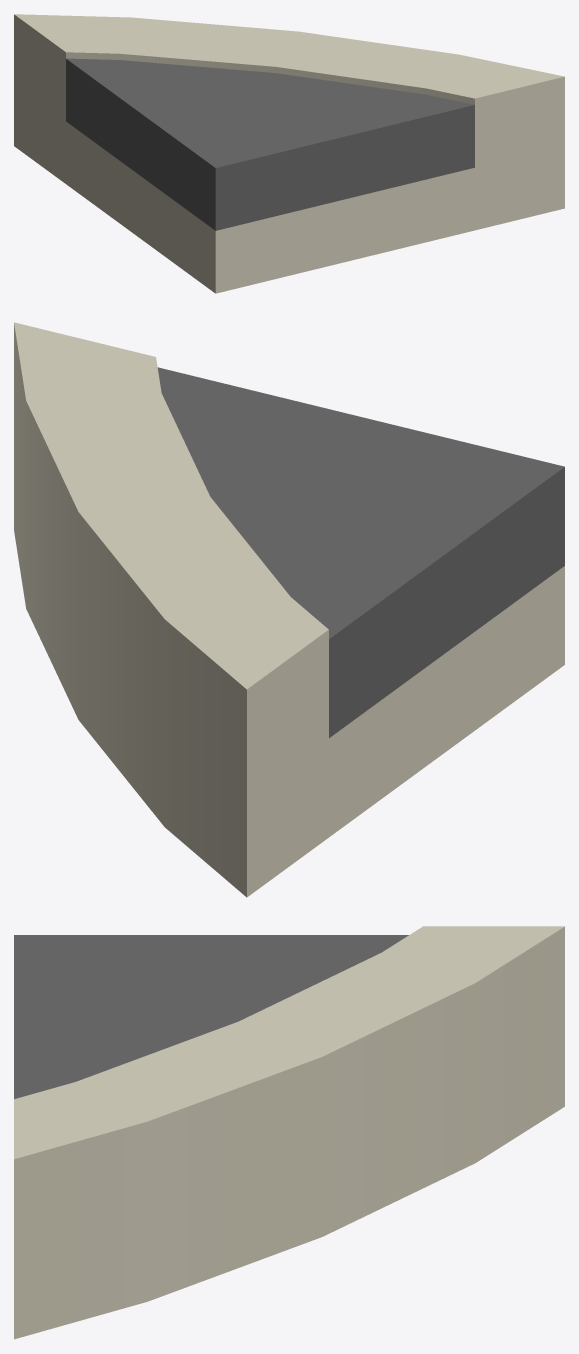
The model's file is tile230.dae.
The picture shows the model from 3 angles, top to bottom: view 1: azimuth 30°, elevation 25°; view 2: azimuth 150°, elevation 25°; view 3: azimuth 270°, elevation 25°; orthographic projection. The views are drawn at different scales.
Visible parts, largest first — view 1: tile230; view 2: tile230; view 3: tile230.
Boxes of the visible parts, x1,y1,x2,y2 form: tile230: [14, 14, 564, 293]; tile230: [14, 322, 564, 897]; tile230: [14, 926, 564, 1339].
Bounding box in the file's own units: 0.582 × 0.21 × 0.582.
